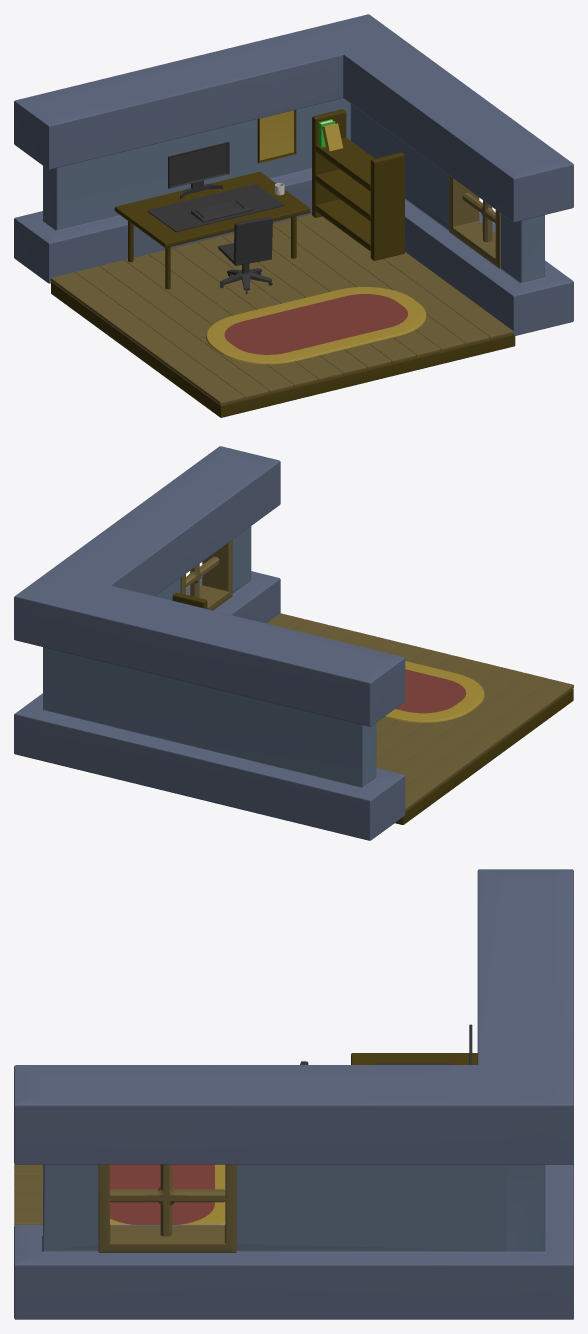
Rendered from room.fbx.
3 views of the same model, one above another, from view 1: azimuth 30°, elevation 25°; view 2: azimuth 150°, elevation 25°; view 3: azimuth 270°, elevation 25° (orthographic). The views are drawn at different scales.
Parts seen in each view (by area): view 1: Wall, Rug, BookCase, Base, Desk, pCube1, pCube2, pCube11, pCube3, pCube10, pCube4, pCube5 (+12 smaller); view 2: Wall, pCube1, Rug, pCube2, pCube3, Base, Frame, pCube4, pCube5, Seperator; view 3: Wall, Frame, Rug, Seperator, Desk.
Boxes of the visible parts, x1,y1,x2,y2 form: Wall: (14, 14, 573, 335); Rug: (206, 287, 426, 364); BookCase: (312, 109, 404, 260); Base: (51, 281, 515, 417); Desk: (114, 171, 310, 289); pCube1: (50, 272, 244, 404); pCube2: (75, 266, 269, 399); pCube11: (296, 214, 489, 345); pCube3: (100, 260, 293, 393); pCube10: (272, 219, 465, 351); pCube4: (124, 254, 318, 387); pCube5: (149, 248, 342, 381); Wall: (14, 446, 405, 840); pCube1: (405, 679, 573, 810); Rug: (384, 661, 484, 722); pCube2: (391, 673, 548, 784); pCube3: (376, 667, 524, 771); Base: (395, 688, 573, 824); Frame: (180, 540, 232, 610); pCube4: (376, 661, 499, 757); pCube5: (376, 655, 475, 733); Seperator: (186, 556, 219, 597); Wall: (14, 869, 573, 1319); Frame: (98, 1164, 236, 1252); Rug: (110, 1164, 225, 1224); Seperator: (110, 1164, 225, 1236); Desk: (351, 1053, 477, 1064).
Bounding box in the file's own units: 28.92 × 13.1 × 28.94.
